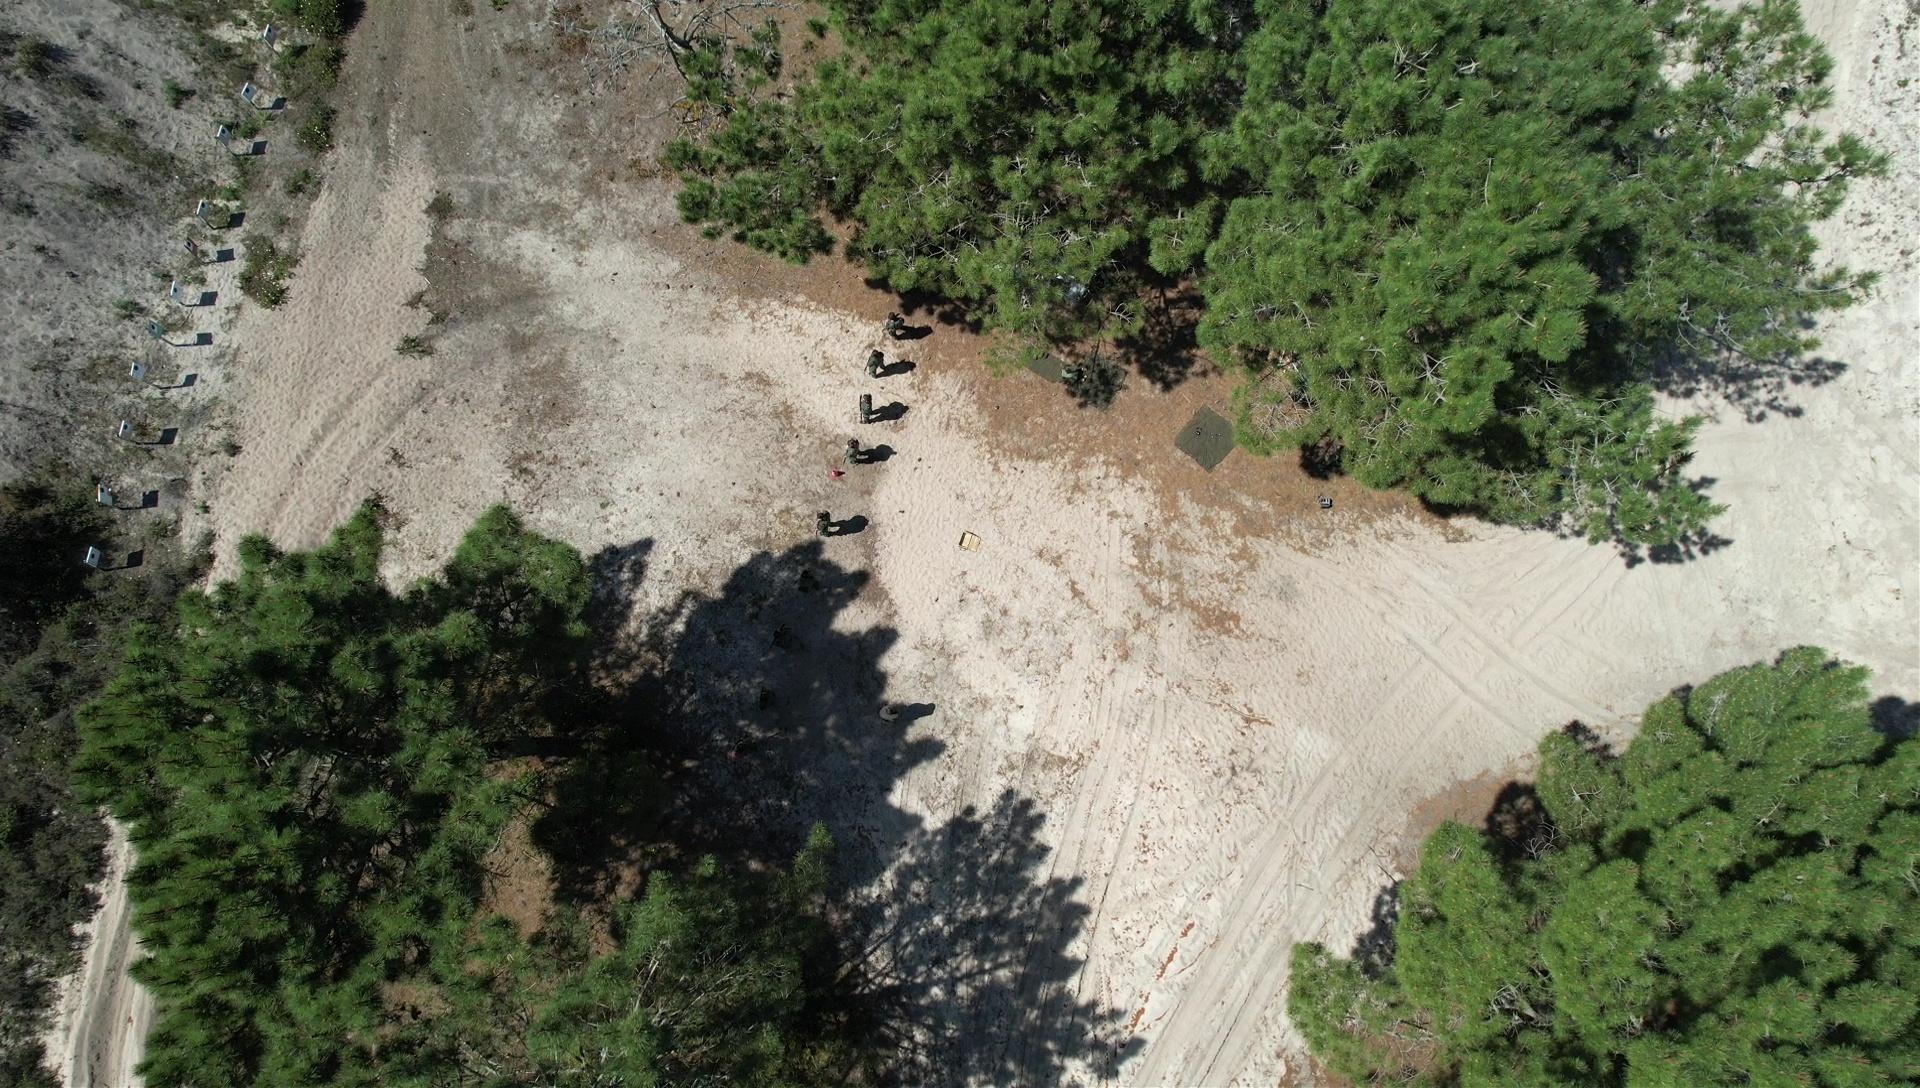Soldier: (865, 343, 893, 381), (771, 622, 803, 655), (798, 564, 822, 600), (732, 735, 762, 760), (816, 504, 837, 539), (876, 700, 902, 727), (757, 686, 782, 713), (847, 434, 865, 469), (857, 390, 877, 421)
